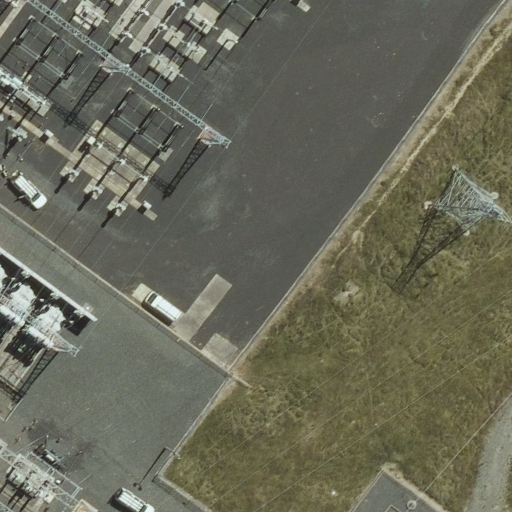TT: (424, 152, 511, 247)
